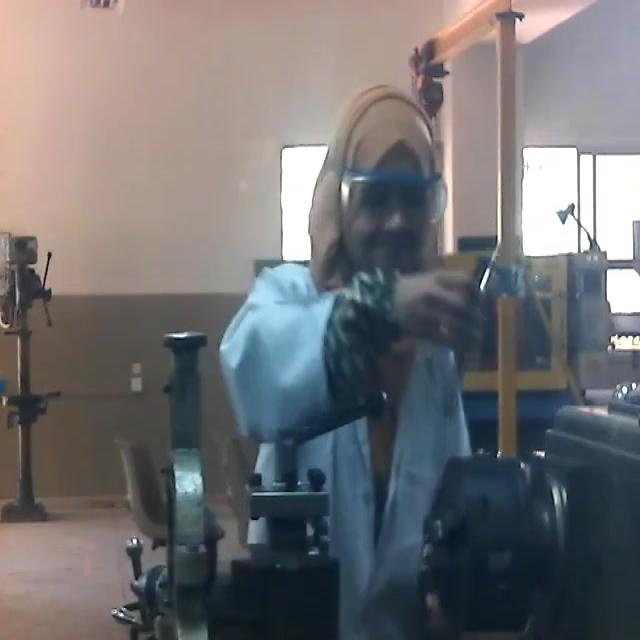googles: (332, 160, 457, 245)
labcoat: (223, 260, 478, 620)
